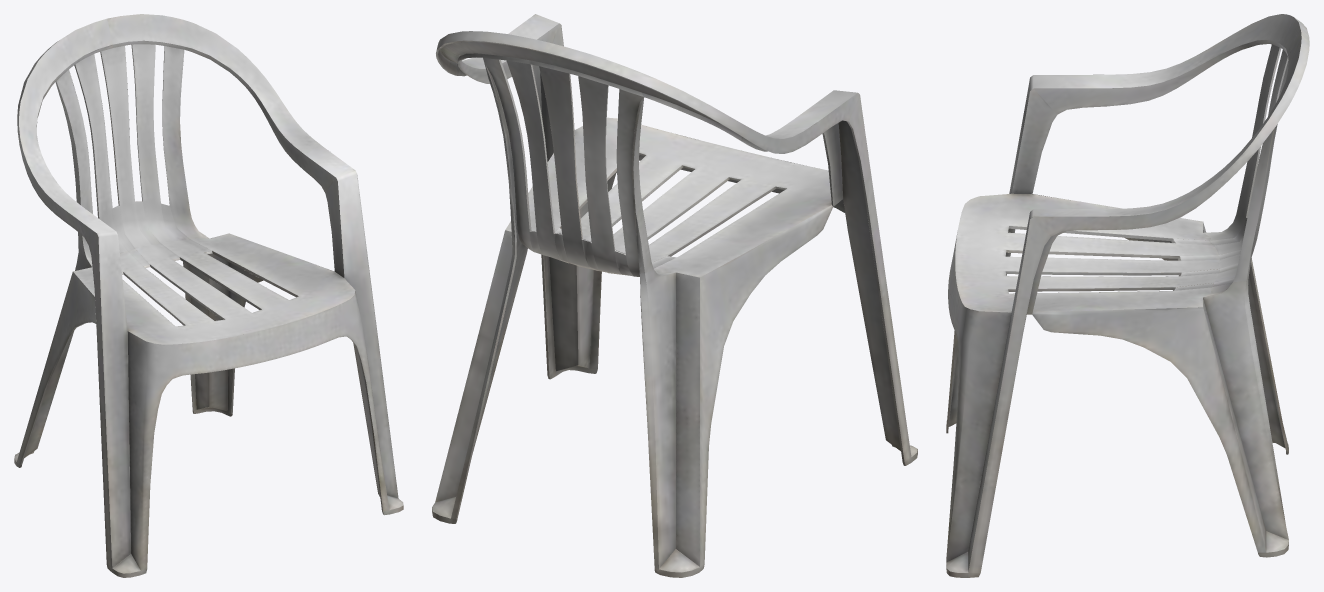
File: plastic_monobloc_chair_01.glb
3 renders of one model, left to right at view 1: azimuth 30°, elevation 25°; view 2: azimuth 150°, elevation 25°; view 3: azimuth 270°, elevation 25°, orthographic. The views are drawn at different scales.
Parts seen in each view (by area): view 1: plastic_monobloc_chair_01; view 2: plastic_monobloc_chair_01; view 3: plastic_monobloc_chair_01.
Boxes of the visible parts, x1,y1,x2,y2 form: plastic_monobloc_chair_01: (14, 14, 403, 577); plastic_monobloc_chair_01: (432, 14, 917, 577); plastic_monobloc_chair_01: (946, 14, 1309, 577).
Bounding box in the file's own units: 0.6419 × 0.8798 × 0.6277.
Materials: 1 (1 with a texture image).
